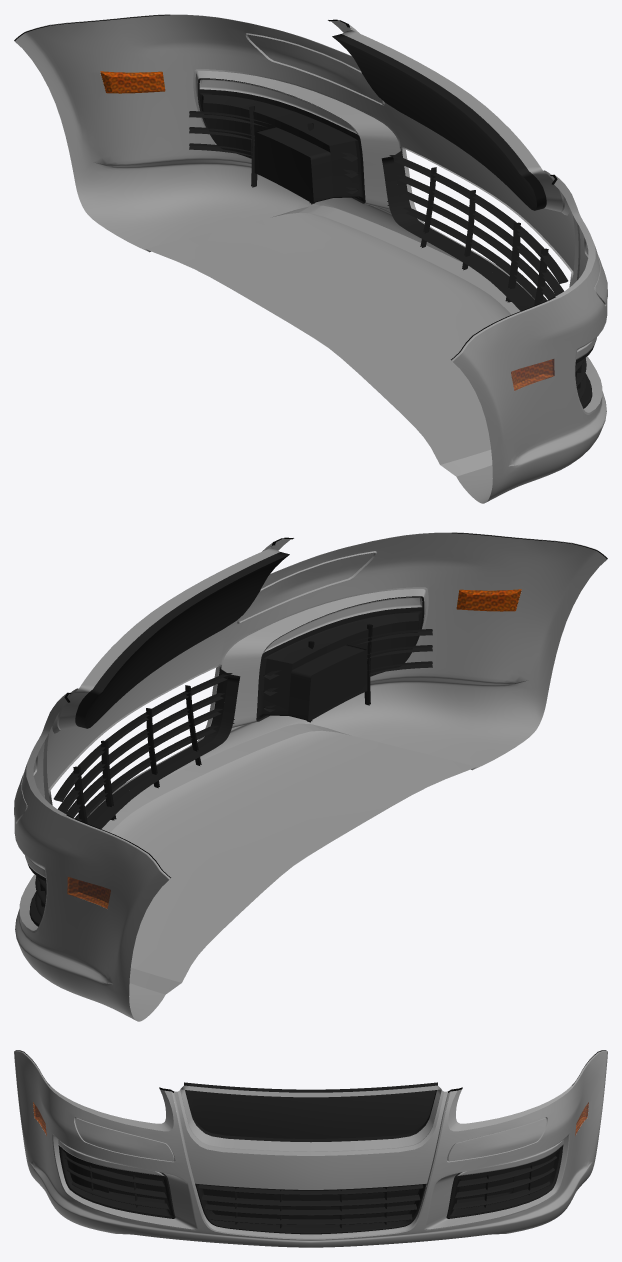
The picture shows the model from 3 angles, top to bottom: view 1: azimuth 30°, elevation 25°; view 2: azimuth 150°, elevation 25°; view 3: azimuth 270°, elevation 25°; orthographic projection. The views are drawn at different scales.
Visible parts, largest first — view 1: X6164_18_021G_C_1_DaS_X6164_18_021G_C, X6164_18_021G_C_X6164_18_021G_C_3_D, X6164_18_021G_C_X6164_18_021G_C_2_D, X6164_18_021G_C_1_DaS_X6164_18_021G_C_E, X6164_18_021G_C_X6164_18_021G_C_7_DaS, X6164_18_021G_C_X6164_18_021G_C_7_DaS_E, X6164_18_021G_C_X6164_18_021G_C_5_N, X6164_18_021G_C_X6164_18_021G_C_6_N, X6164_18_021G_C_X6164_18_021G_C_4_D; view 2: X6164_18_021G_C_1_DaS_X6164_18_021G_C, X6164_18_021G_C_X6164_18_021G_C_3_D, X6164_18_021G_C_X6164_18_021G_C_2_D, X6164_18_021G_C_1_DaS_X6164_18_021G_C_E, X6164_18_021G_C_X6164_18_021G_C_7_DaS, X6164_18_021G_C_X6164_18_021G_C_7_DaS_E, X6164_18_021G_C_X6164_18_021G_C_6_N, X6164_18_021G_C_X6164_18_021G_C_5_N, X6164_18_021G_C_X6164_18_021G_C_9_D; view 3: X6164_18_021G_C_1_DaS_X6164_18_021G_C, X6164_18_021G_C_X6164_18_021G_C_3_D, X6164_18_021G_C_X6164_18_021G_C_2_D, X6164_18_021G_C_X6164_18_021G_C_7_DaS, X6164_18_021G_C_1_DaS_X6164_18_021G_C_E, X6164_18_021G_C_X6164_18_021G_C_7_DaS_E.
Boxes of the visible parts, x1=… form: X6164_18_021G_C_1_DaS_X6164_18_021G_C: x1=14, y1=15, x2=607, y2=503; X6164_18_021G_C_X6164_18_021G_C_3_D: x1=202, y1=34, x2=576, y2=379; X6164_18_021G_C_X6164_18_021G_C_2_D: x1=189, y1=78, x2=593, y2=408; X6164_18_021G_C_1_DaS_X6164_18_021G_C_E: x1=14, y1=14, x2=607, y2=412; X6164_18_021G_C_X6164_18_021G_C_7_DaS: x1=201, y1=24, x2=596, y2=359; X6164_18_021G_C_X6164_18_021G_C_7_DaS_E: x1=199, y1=27, x2=590, y2=351; X6164_18_021G_C_X6164_18_021G_C_5_N: x1=100, y1=71, x2=165, y2=93; X6164_18_021G_C_X6164_18_021G_C_6_N: x1=511, y1=359, x2=554, y2=390; X6164_18_021G_C_X6164_18_021G_C_4_D: x1=511, y1=359, x2=554, y2=390; X6164_18_021G_C_1_DaS_X6164_18_021G_C: x1=14, y1=533, x2=607, y2=1021; X6164_18_021G_C_X6164_18_021G_C_3_D: x1=45, y1=552, x2=419, y2=897; X6164_18_021G_C_X6164_18_021G_C_2_D: x1=28, y1=596, x2=432, y2=926; X6164_18_021G_C_1_DaS_X6164_18_021G_C_E: x1=14, y1=532, x2=607, y2=930; X6164_18_021G_C_X6164_18_021G_C_7_DaS: x1=25, y1=542, x2=420, y2=877; X6164_18_021G_C_X6164_18_021G_C_7_DaS_E: x1=31, y1=545, x2=422, y2=869; X6164_18_021G_C_X6164_18_021G_C_6_N: x1=456, y1=589, x2=521, y2=611; X6164_18_021G_C_X6164_18_021G_C_5_N: x1=67, y1=877, x2=110, y2=908; X6164_18_021G_C_X6164_18_021G_C_9_D: x1=67, y1=877, x2=110, y2=908; X6164_18_021G_C_1_DaS_X6164_18_021G_C: x1=14, y1=1051, x2=607, y2=1247; X6164_18_021G_C_X6164_18_021G_C_3_D: x1=66, y1=1082, x2=555, y2=1228; X6164_18_021G_C_X6164_18_021G_C_2_D: x1=58, y1=1145, x2=563, y2=1234; X6164_18_021G_C_X6164_18_021G_C_7_DaS: x1=58, y1=1091, x2=563, y2=1239; X6164_18_021G_C_1_DaS_X6164_18_021G_C_E: x1=14, y1=1051, x2=607, y2=1229; X6164_18_021G_C_X6164_18_021G_C_7_DaS_E: x1=60, y1=1085, x2=561, y2=1238.
Size of the model in its own units: 77.22 by 60.9 by 210.
